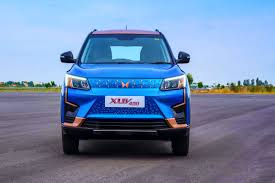XUV 400: (57, 27, 194, 158)
